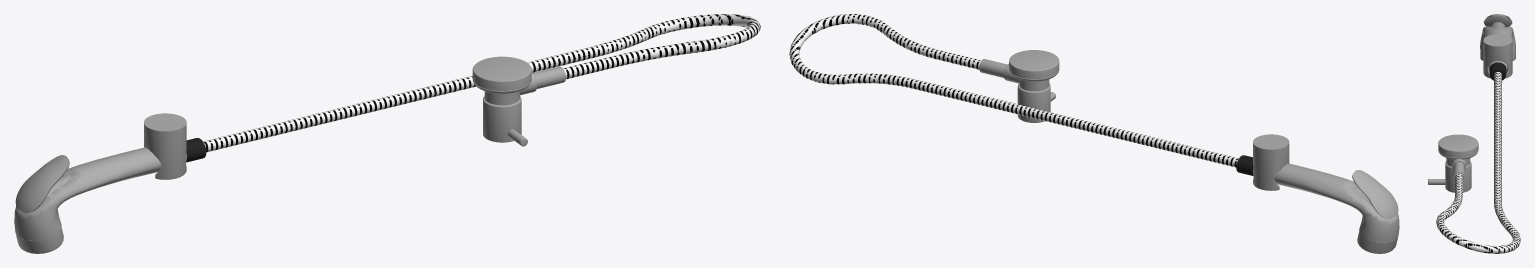
Rendered from DuchaHigiênica.fbx.
3 renders of one model, left to right at view 1: azimuth 30°, elevation 25°; view 2: azimuth 150°, elevation 25°; view 3: azimuth 270°, elevation 25°, orthographic. The views are drawn at different scales.
Parts seen in each view (by area): view 1: group_ 4.010, group_ 3.020, group_ 5.010, group_ 2.034, group_ 2.033, group_.084, group_.082, group_ 5.009; view 2: group_ 4.010, group_ 3.020, group_ 5.010, group_ 2.034, group_ 2.033, group_.084, group_.082; view 3: group_ 4.010, group_ 5.010, group_ 2.034, group_ 3.020, group_ 2.033, group_.084, group_ 5.009, group_.082.
Boxes of the visible parts, box(x1,y1,x2,y2) form: group_ 4.010: box(203, 14, 760, 152); group_ 3.020: box(14, 147, 161, 240); group_ 5.010: box(472, 56, 531, 146); group_ 2.034: box(144, 113, 186, 179); group_ 2.033: box(15, 155, 69, 213); group_.084: box(520, 66, 565, 95); group_.082: box(15, 227, 63, 253); group_ 5.009: box(186, 138, 206, 162); group_ 4.010: box(789, 14, 1238, 167); group_ 3.020: box(1274, 163, 1399, 242); group_ 5.010: box(1009, 50, 1059, 122); group_ 2.034: box(1253, 134, 1289, 190); group_ 2.033: box(1352, 170, 1398, 219); group_.084: box(979, 59, 1019, 83); group_.082: box(1357, 231, 1398, 253); group_ 4.010: box(1436, 72, 1520, 253); group_ 5.010: box(1428, 134, 1478, 192); group_ 2.034: box(1483, 34, 1512, 78); group_ 3.020: box(1480, 22, 1515, 50); group_ 2.033: box(1483, 14, 1512, 26); group_.084: box(1452, 159, 1465, 179); group_ 5.009: box(1489, 62, 1506, 80); group_.082: box(1480, 49, 1515, 60).
Bounding box in the file's own units: 0.7259 × 0.0897 × 0.1191.
5 materials, 3 textured.
